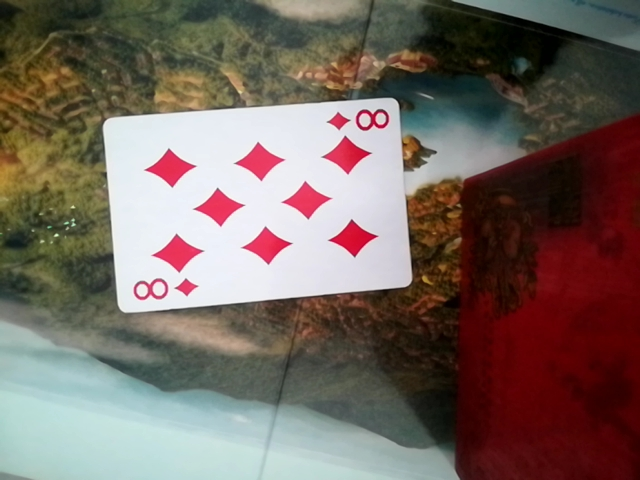fk 8: (102, 93, 415, 315)
